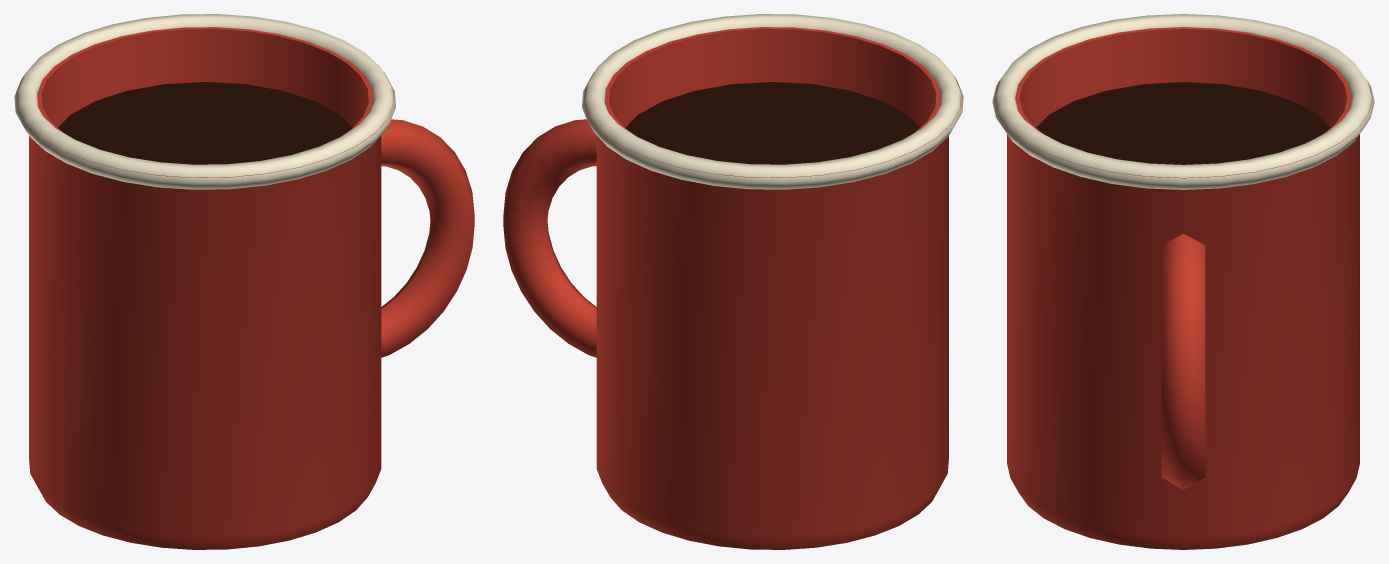
File: MugRed.glb
3 renders of one model, left to right at view 1: azimuth 30°, elevation 25°; view 2: azimuth 150°, elevation 25°; view 3: azimuth 270°, elevation 25°, orthographic.
Visible parts, largest first — view 1: MugRed_Body; view 2: MugRed_Body; view 3: MugRed_Body.
Part boxes in pixels (<box>): MugRed_Body: <box>14,14,474,549</box>; MugRed_Body: <box>503,14,963,549</box>; MugRed_Body: <box>992,14,1374,549</box>.
Bounding box in the file's own units: 0.1195 × 0.1016 × 0.091.
